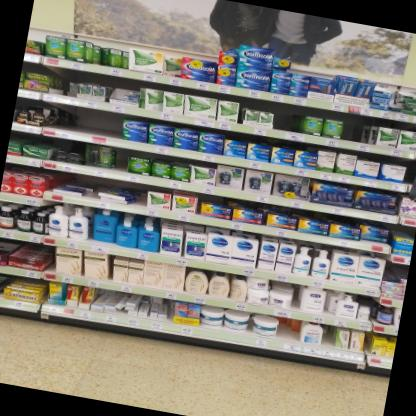empty_space: (56, 101, 125, 138), (270, 100, 305, 134), (340, 113, 371, 145), (275, 315, 302, 341)
